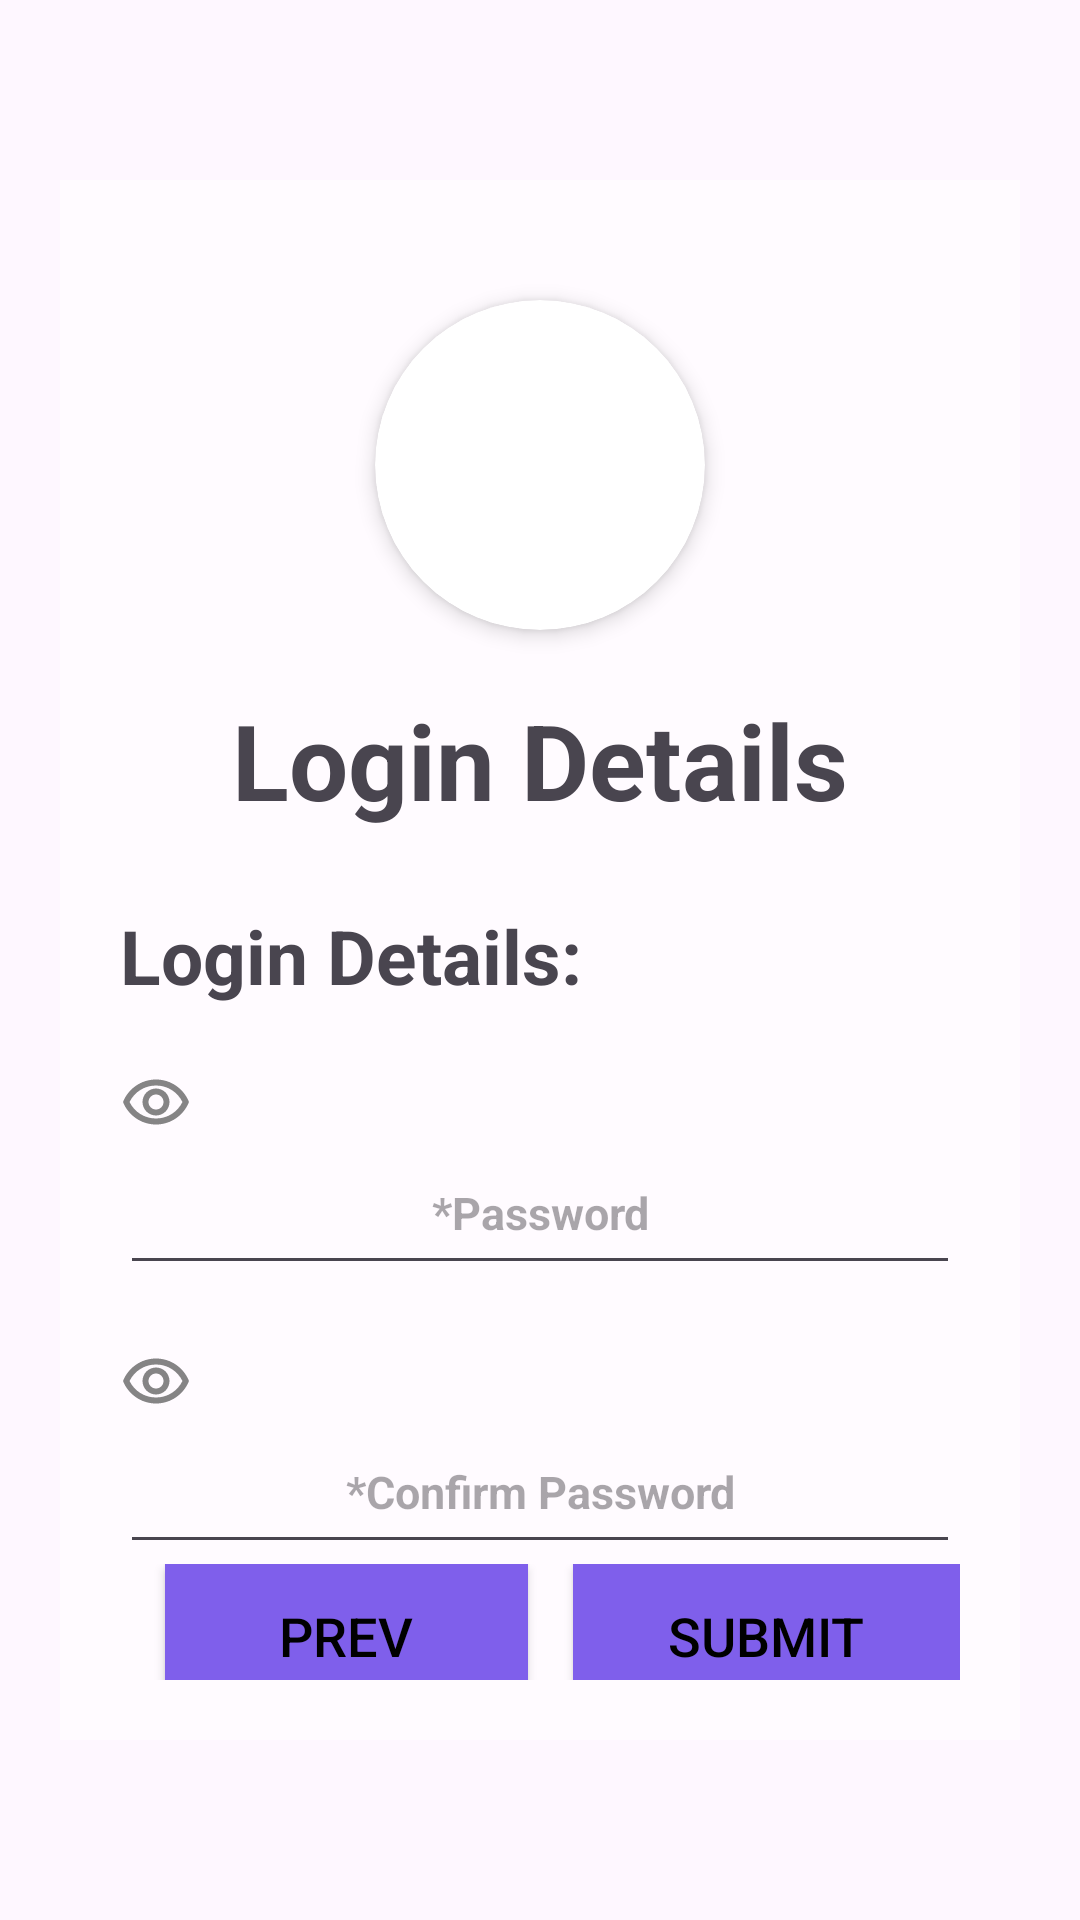

Icons on this 1080*1920 Android screen, each with the point to tap as (x=x, y=y):
eye: (x=156, y=1102), (x=156, y=1381)
